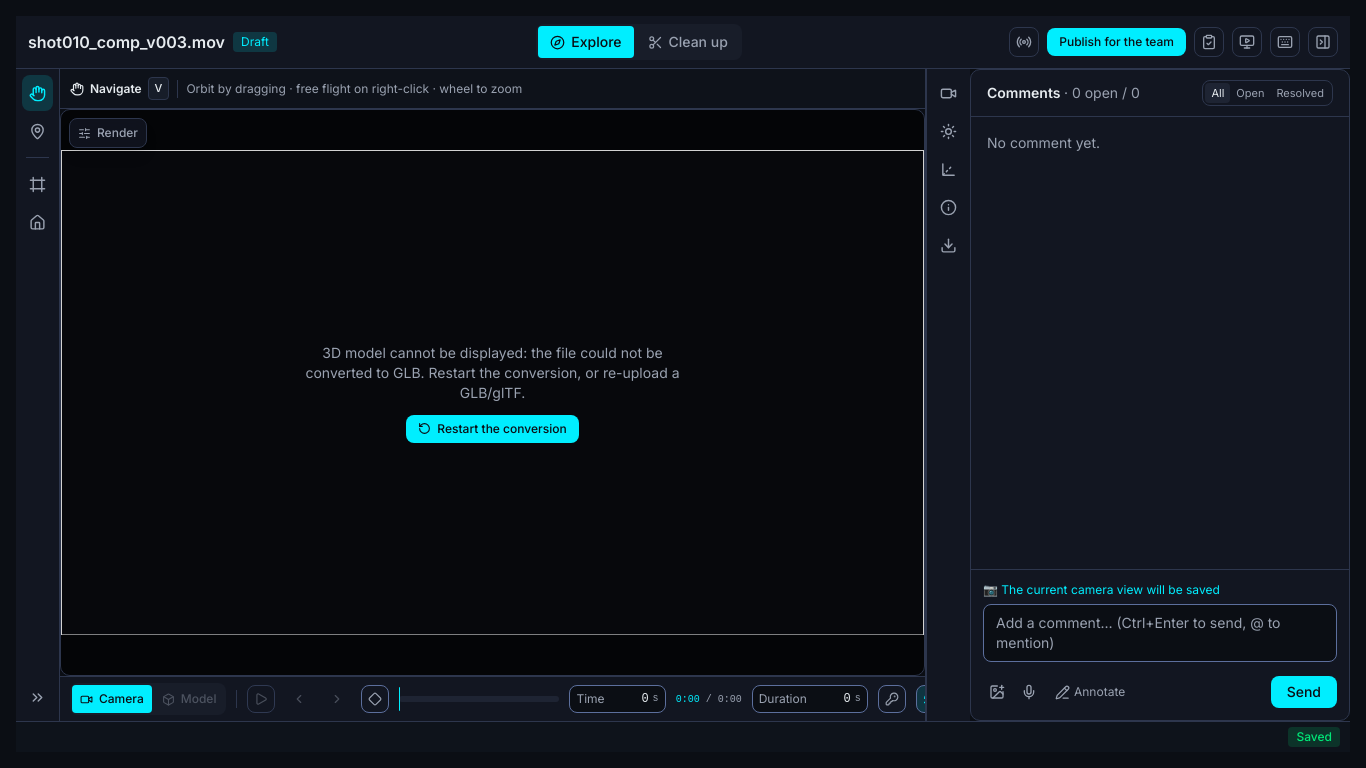
it: ReviewPage — 3D viewer chrome › sets the render settings in the viewer, and the render mode in it
Click the button "Render" at [108, 133], box [69, 118, 147, 148]
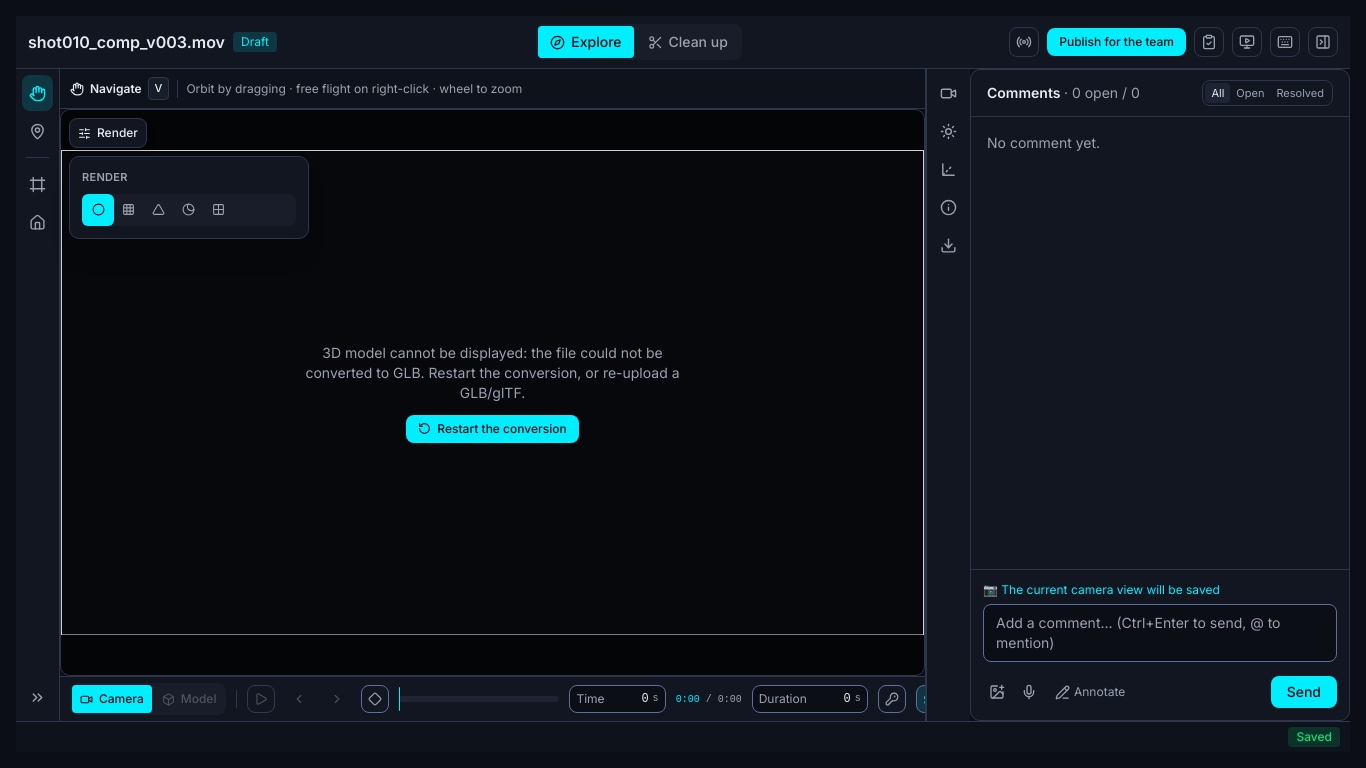
Check: the element named "Model render mode" is shown, box [82, 194, 296, 226]
Check: the button named "Wireframe" is shown, box [114, 196, 142, 224]
